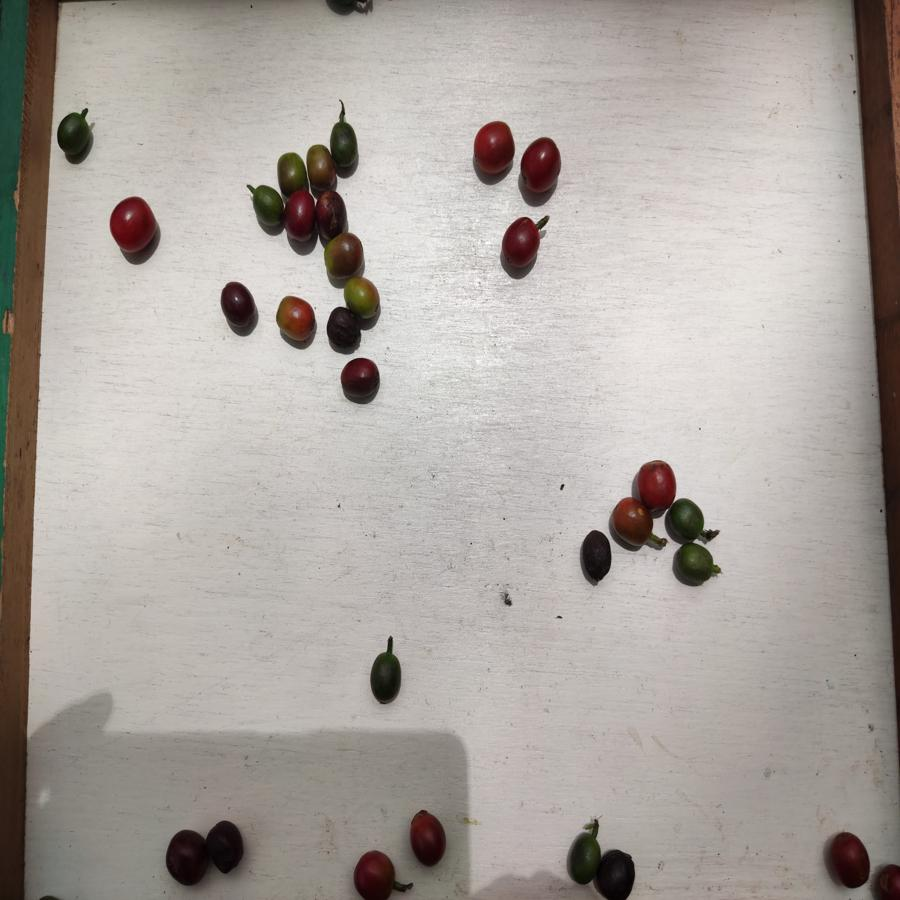Inmaduro: (369, 650, 405, 709), (672, 539, 714, 581), (54, 113, 91, 160), (248, 181, 284, 229), (566, 833, 599, 885), (669, 499, 707, 540), (332, 120, 362, 168)
Maduro: (104, 195, 165, 254), (470, 120, 518, 181), (518, 138, 563, 192), (636, 459, 675, 510)
Pinton: (608, 499, 659, 550), (275, 294, 319, 346), (324, 234, 366, 279), (344, 275, 380, 319), (308, 143, 334, 188), (276, 152, 308, 188)
Sobremaduro: (160, 826, 207, 885), (828, 829, 873, 890), (352, 845, 399, 899), (201, 818, 247, 873), (501, 215, 544, 273), (219, 280, 262, 333), (597, 848, 638, 900), (410, 809, 448, 865), (339, 357, 382, 400), (284, 190, 318, 241), (581, 527, 610, 581), (317, 190, 349, 236), (327, 309, 362, 349)
